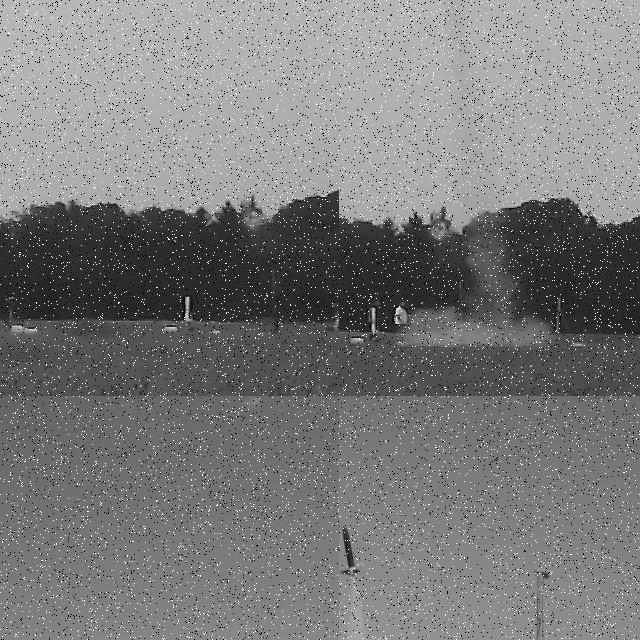Rocket: (339, 524, 363, 578), (185, 297, 192, 322)
